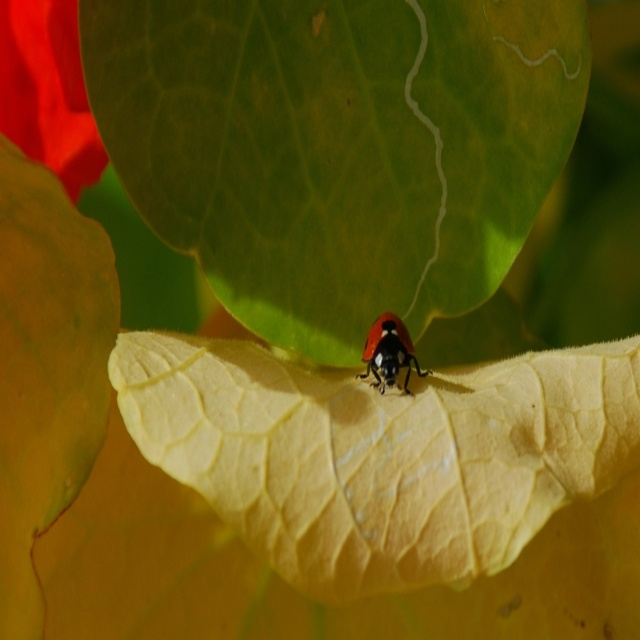Ladybug: (354, 309, 433, 394)
